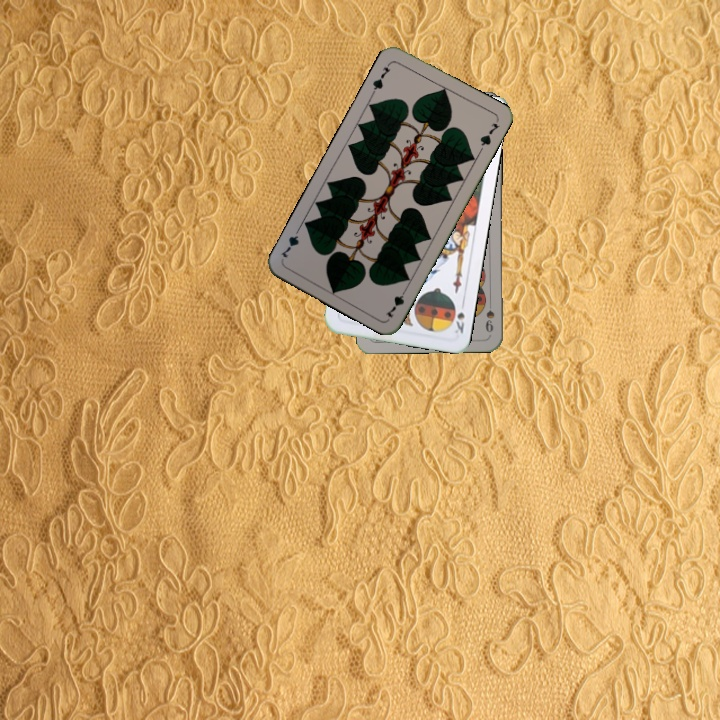G7: (382, 283, 410, 321), (368, 59, 393, 97)
S9: (481, 295, 496, 335)
SK: (448, 308, 467, 336)
